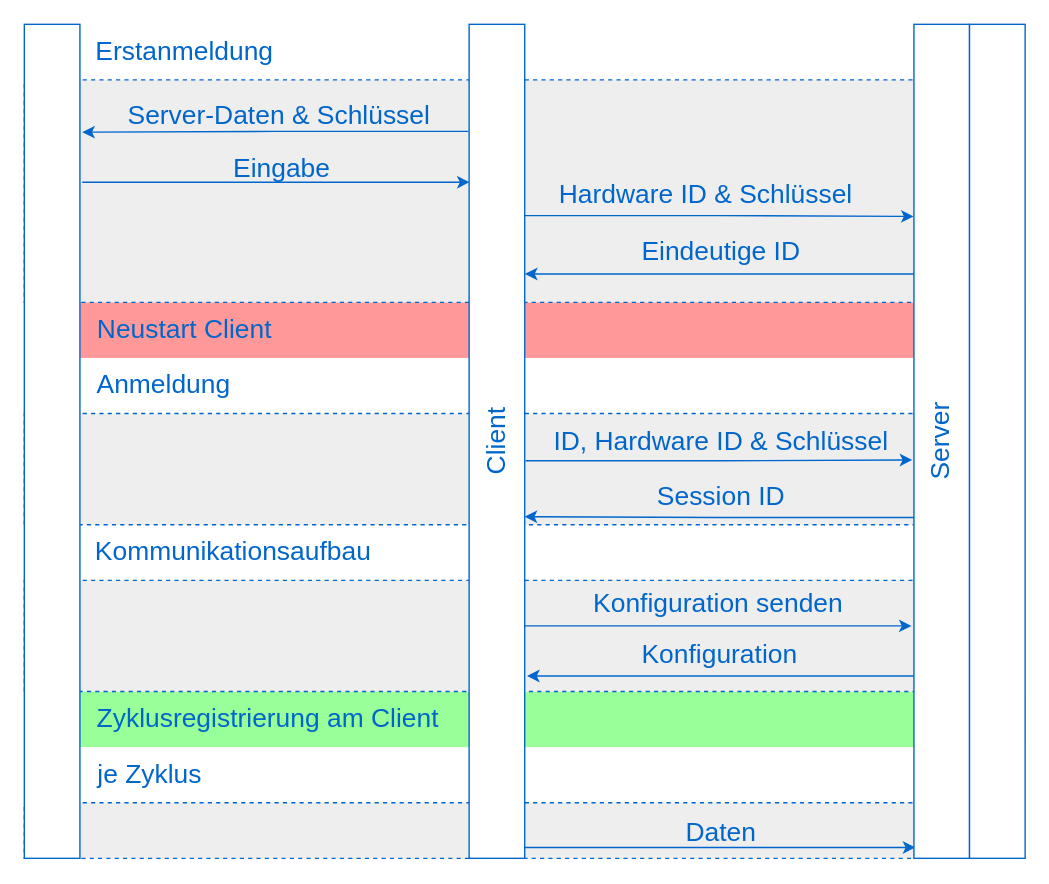
Image size: 1049x884. Some labels were removed from this diagram. The box of each missing label's shape, as (x1, y1, x2, y2) in pixels:
Benutzer: (23, 23, 80, 858)
Datenbank: (968, 23, 1025, 858)
